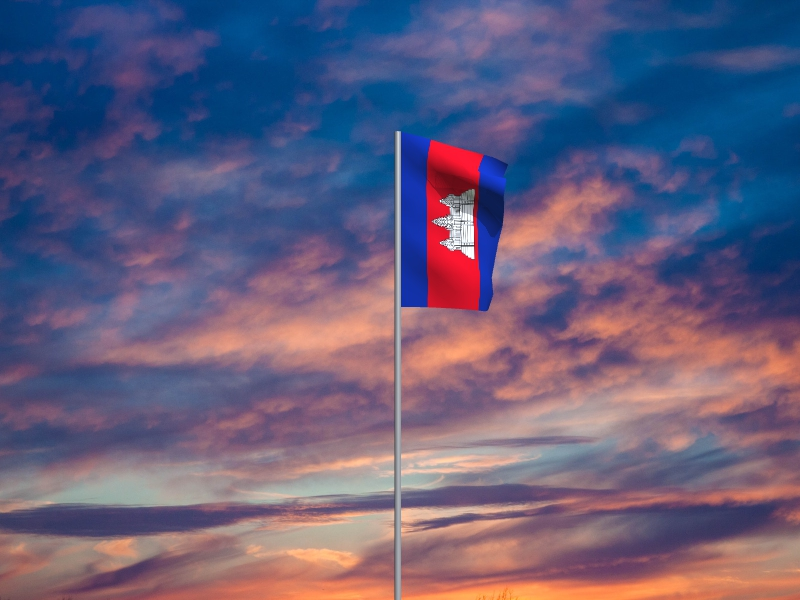kh: (402, 133, 509, 313)
